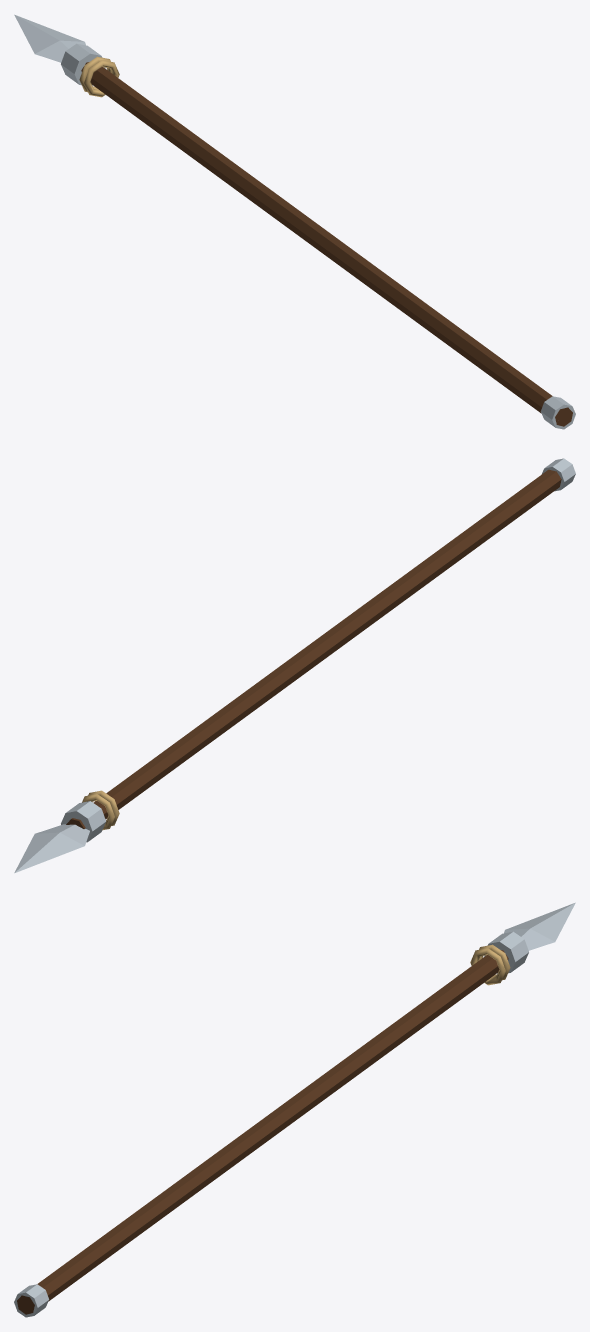
File: Weapon_Spear_Steel.fbx
3 views of the same model, one above another, from view 1: azimuth 30°, elevation 25°; view 2: azimuth 150°, elevation 25°; view 3: azimuth 330°, elevation 25° (orthographic).
Visible parts, largest first — view 1: Weapon_Spear_Steel; view 2: Weapon_Spear_Steel; view 3: Weapon_Spear_Steel.
Part boxes in pixels (<box>): Weapon_Spear_Steel: <box>14,14,575,429</box>; Weapon_Spear_Steel: <box>14,458,575,873</box>; Weapon_Spear_Steel: <box>14,902,575,1317</box>.
Bounding box in the file's own units: 3.8 × 2.7 × 72.
